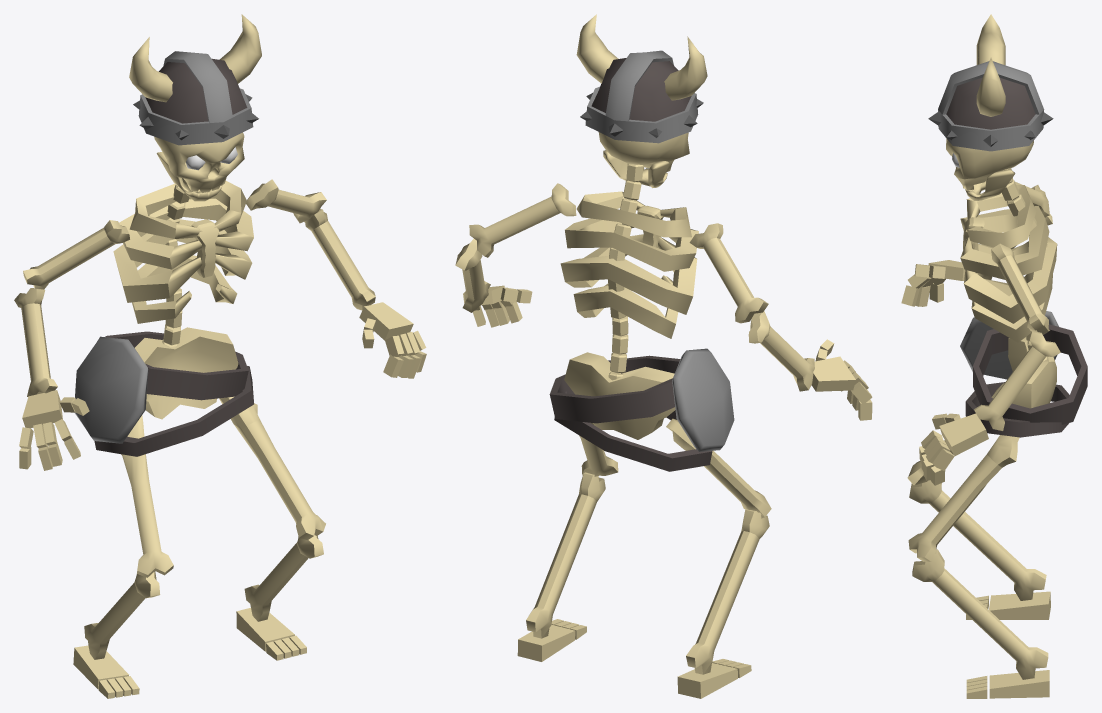
The model's file is skeleton_VIKING_frame02.fbx.
3 views of the same model, side by side, from view 1: azimuth 30°, elevation 25°; view 2: azimuth 150°, elevation 25°; view 3: azimuth 270°, elevation 25° (orthographic). The views are drawn at different scales.
Parts seen in each view (by area): view 1: skeleton_viking_frame2; view 2: skeleton_viking_frame2; view 3: skeleton_viking_frame2.
Part boxes in pixels (x1,y1,x2,y2): skeleton_viking_frame2: (14,14,426,698); skeleton_viking_frame2: (455,14,872,698); skeleton_viking_frame2: (901,14,1087,698).
Size of the model in its own units: 119 by 179 by 48.92.
